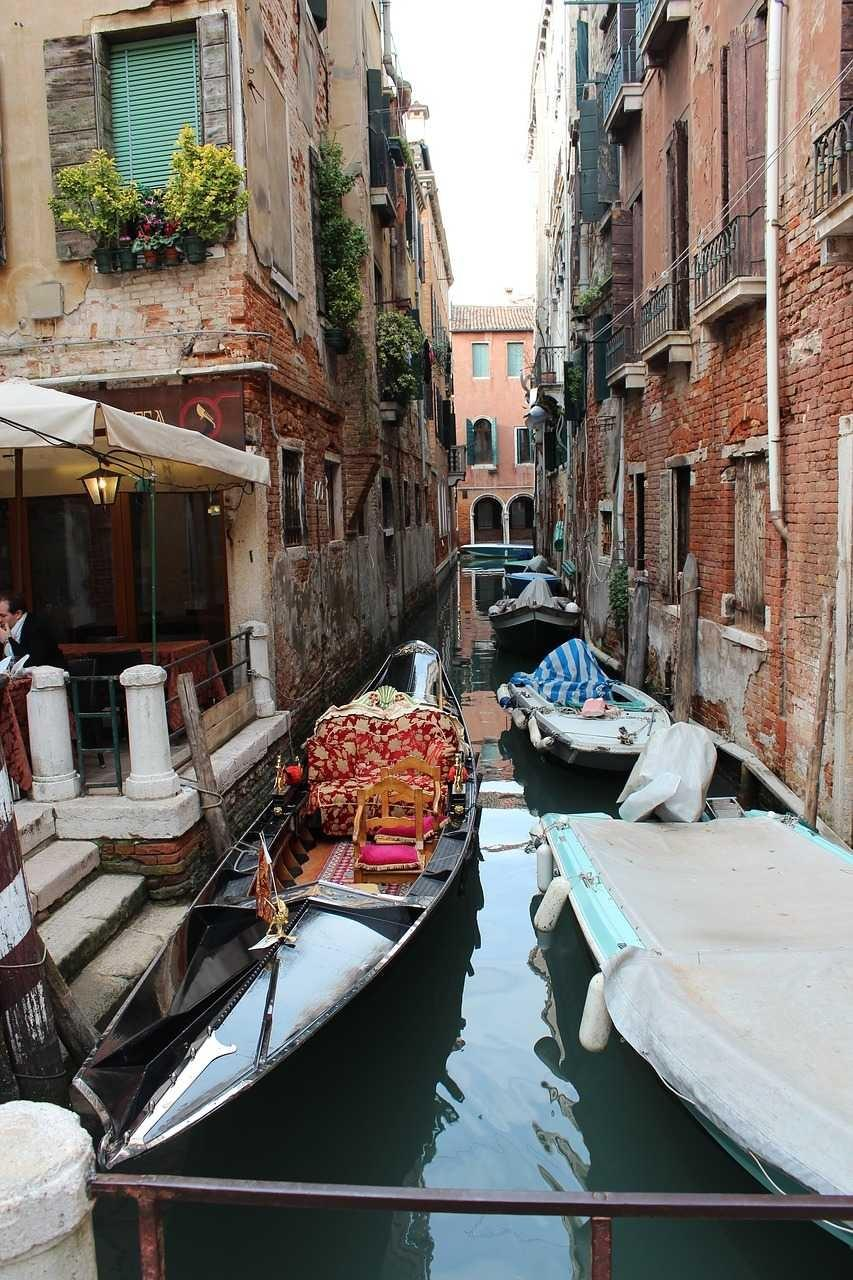kayak: (72, 640, 484, 1170), (532, 743, 851, 1201), (494, 638, 671, 771), (487, 573, 581, 656)
